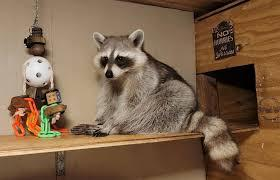raccoon: (67, 25, 245, 177)
